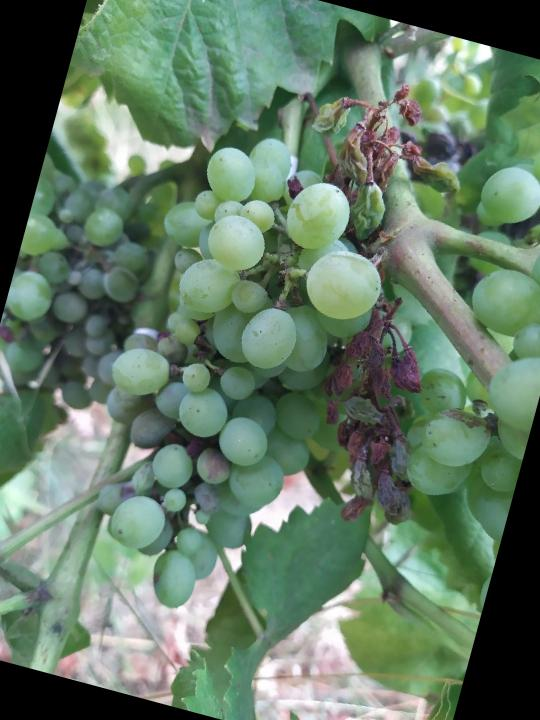grape: (53, 106, 493, 664)
